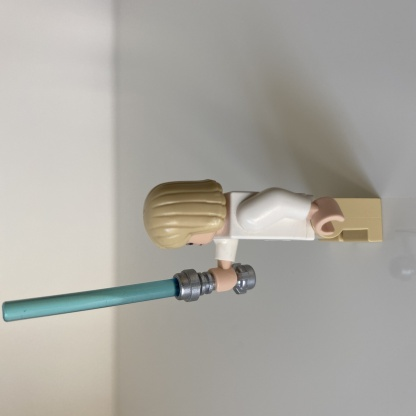luke-skywalker: (3, 178, 383, 323)
